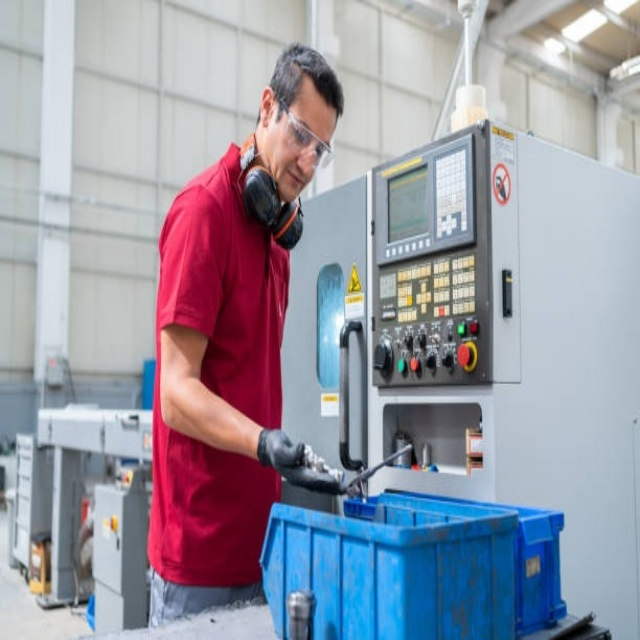Gafas: (276, 97, 333, 171)
Guantes: (255, 428, 308, 475)
Sin_mascara: (278, 159, 310, 204)
